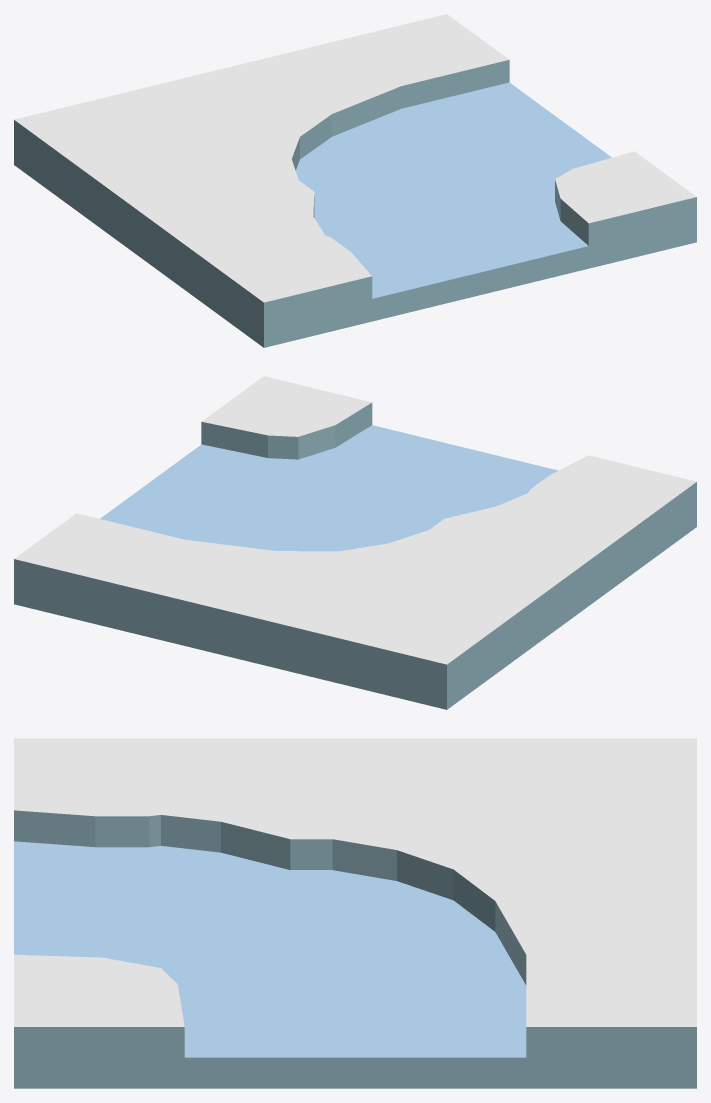
Rendered from Terrain_Modular_Tiles_Snow_Ice_River_Bend_03.fbx.
3 renders of one model, top to bottom at view 1: azimuth 30°, elevation 25°; view 2: azimuth 150°, elevation 25°; view 3: azimuth 270°, elevation 25°, orthographic. The views are drawn at different scales.
Visible parts, largest first — view 1: Terrain_Modular_Tiles_Snow_Ice_River_Bend_03; view 2: Terrain_Modular_Tiles_Snow_Ice_River_Bend_03; view 3: Terrain_Modular_Tiles_Snow_Ice_River_Bend_03.
Boxes of the visible parts, x1,y1,x2,y2 form: Terrain_Modular_Tiles_Snow_Ice_River_Bend_03: (14,14,696,347); Terrain_Modular_Tiles_Snow_Ice_River_Bend_03: (14,376,696,709); Terrain_Modular_Tiles_Snow_Ice_River_Bend_03: (14,738,696,1088).
Size of the model in its own units: 118 by 11.81 by 118.
